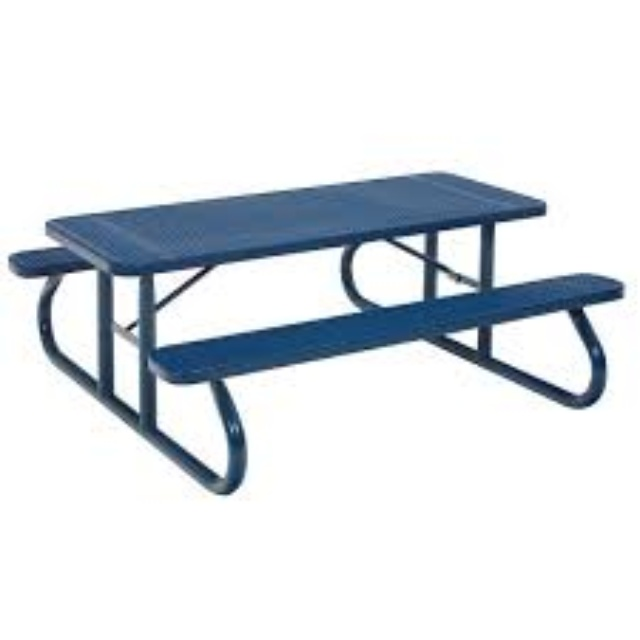obstacle: (6, 165, 620, 495)
